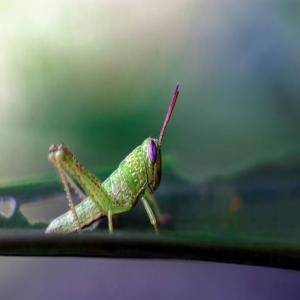locust: (40, 85, 180, 243)
